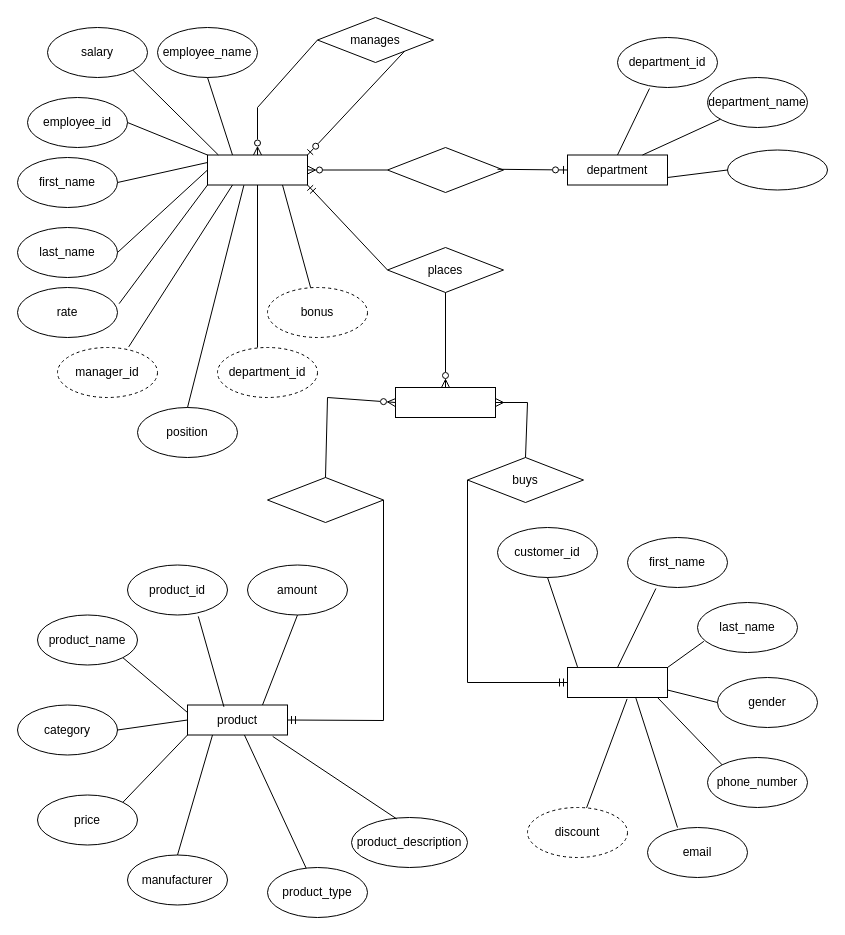
Image size: 845x935. Some labels were removed from this diagram. The box of each missing label's shape, as (x1, y1, x2, y2) in pixels:
customer: (566, 666, 668, 698)
employee: (206, 154, 308, 185)
location: (726, 149, 828, 190)
orders: (394, 386, 496, 418)
sells: (266, 476, 384, 522)
works_for: (386, 146, 504, 192)
